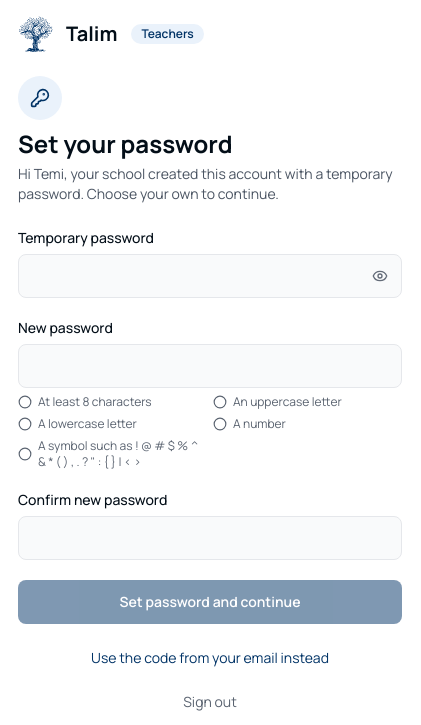
Scenario: set-password rules › shows any other failure above the form
Expected: the heading "Set your password" is shown, [18,127,232,160]
Type "Temp#Pass2026x" into the password field labelled "Temporary password" at (210, 276), box [18,254,402,298]
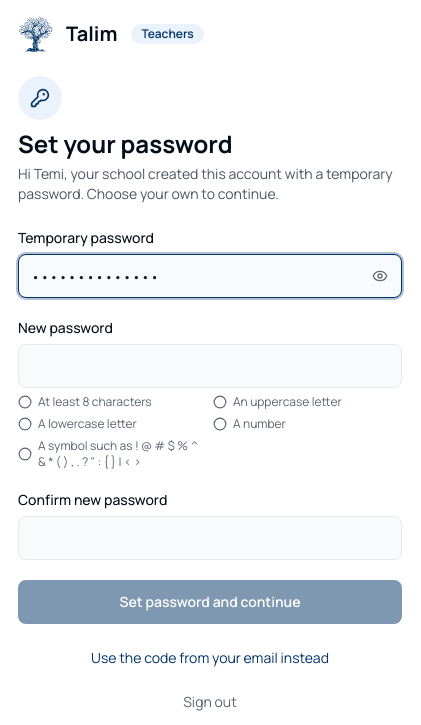
Type "Sturdy#Pass2026" into the password field labelled "New password" at (210, 366), box [18,344,402,388]
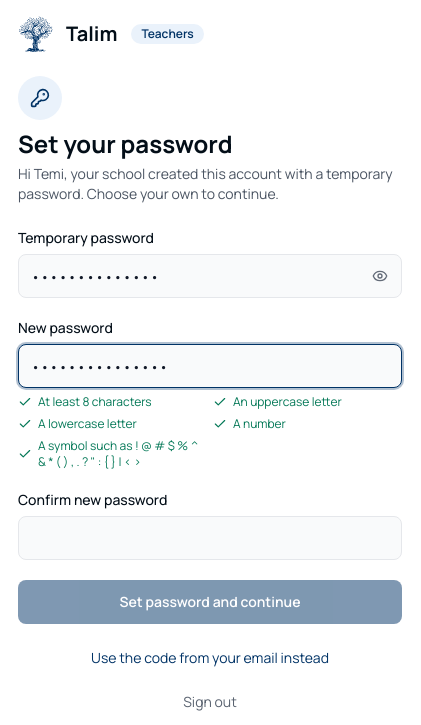
Type "Sturdy#Pass2026" into the password field labelled "Confirm new password" at (210, 538), box [18,516,402,560]
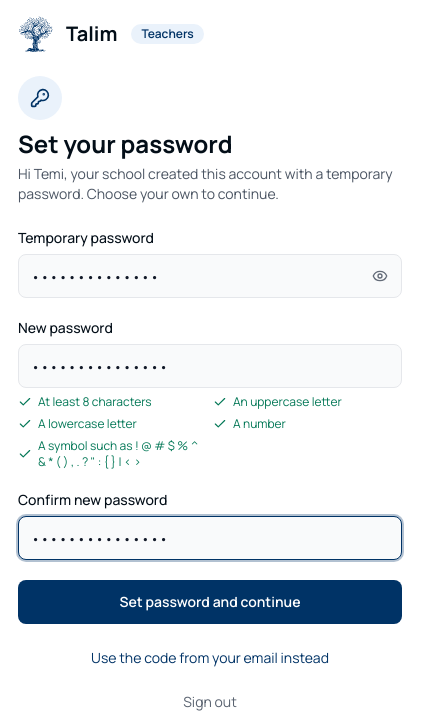
Click the button "Set password and continue" at (210, 602), box [18,580,402,624]
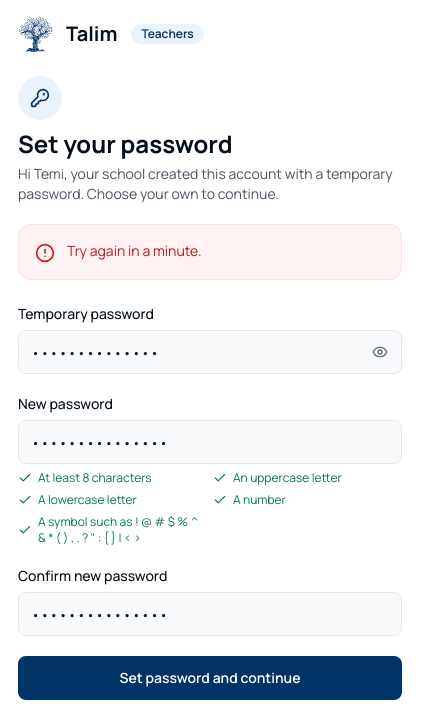
Result: the message reads "Try again in a minute." at [67,241,202,260]
